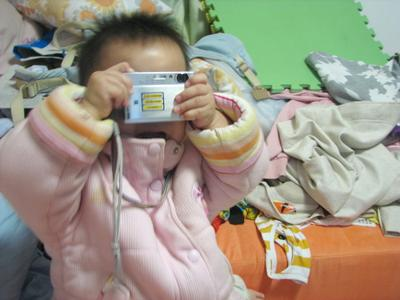person: (2, 13, 269, 300)
